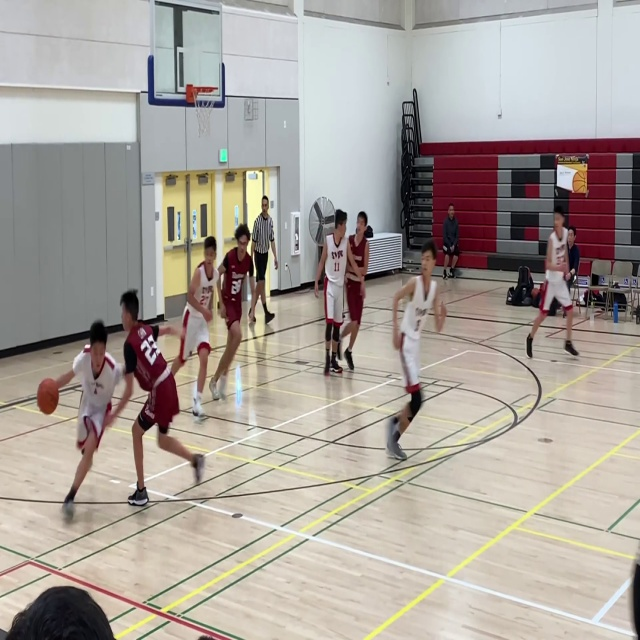Basketball: (37, 377, 59, 415)
